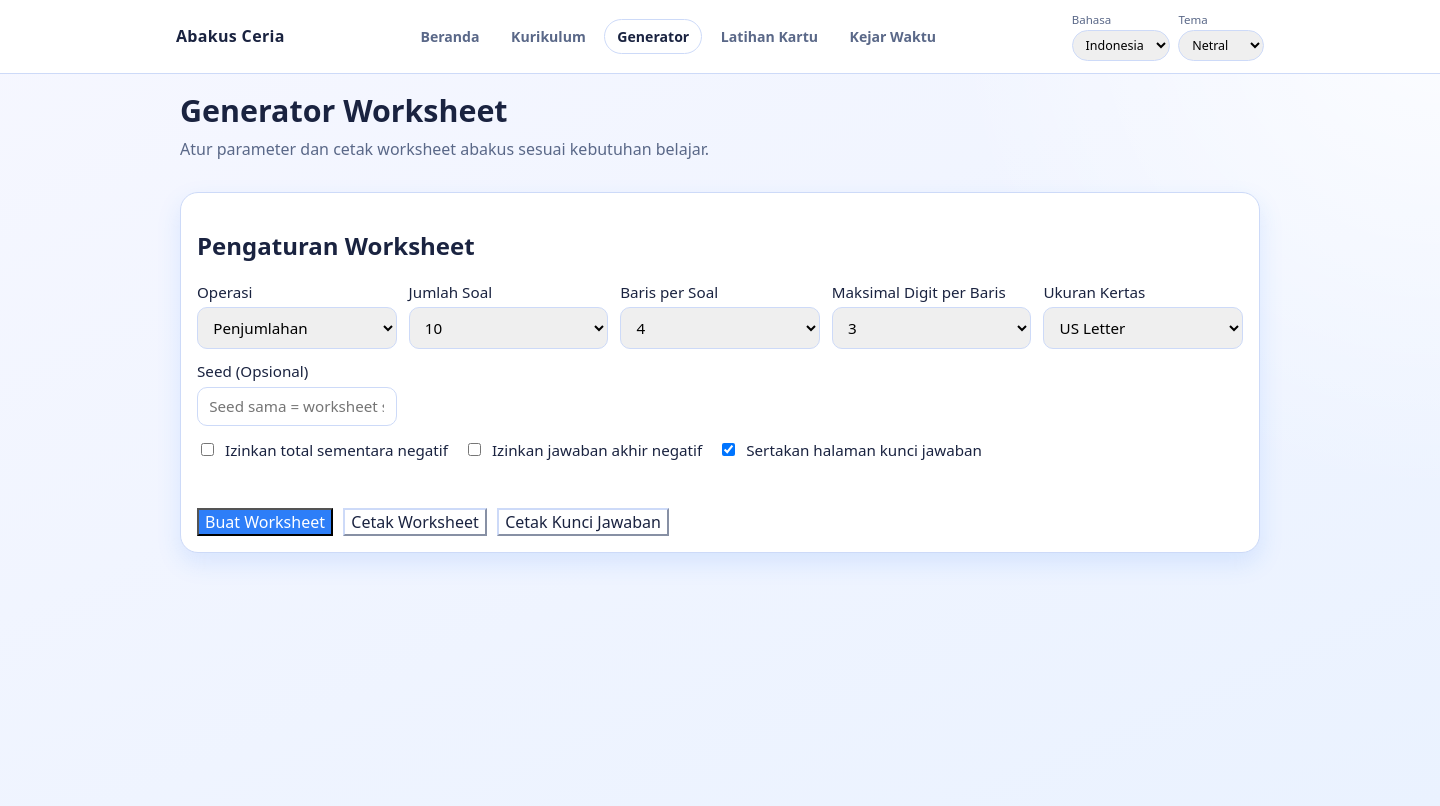
Test: Generator page › generates worksheet and shows question cards
The width and height of the screenshot is (1440, 806).
Click the button "Buat Worksheet" at (265, 522), box [197,508,333,536]
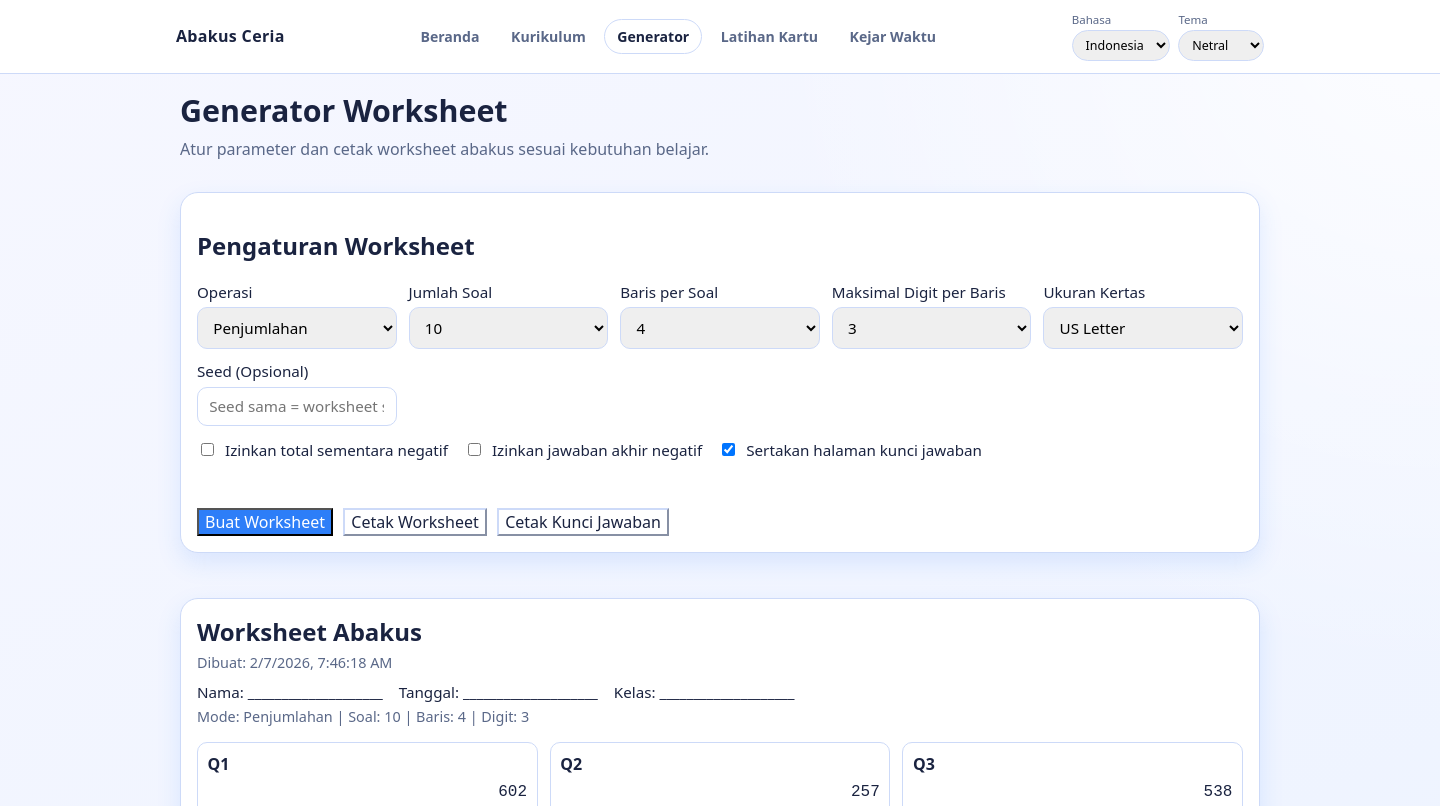
expect the heading "Worksheet Abakus" is shown: met, box [197,614,422,648]
expect the text "Q1" is shown: met, box [208,753,230,775]
